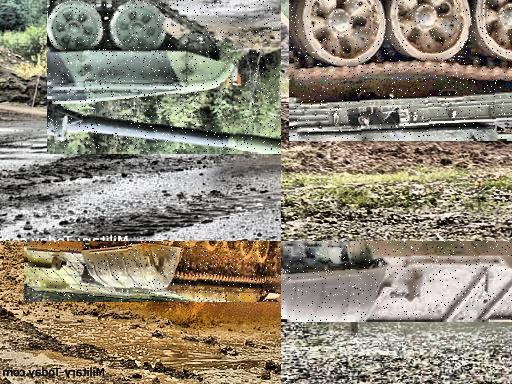tanks: (48, 1, 282, 154), (291, 1, 512, 141), (283, 242, 512, 322), (27, 242, 282, 303)
